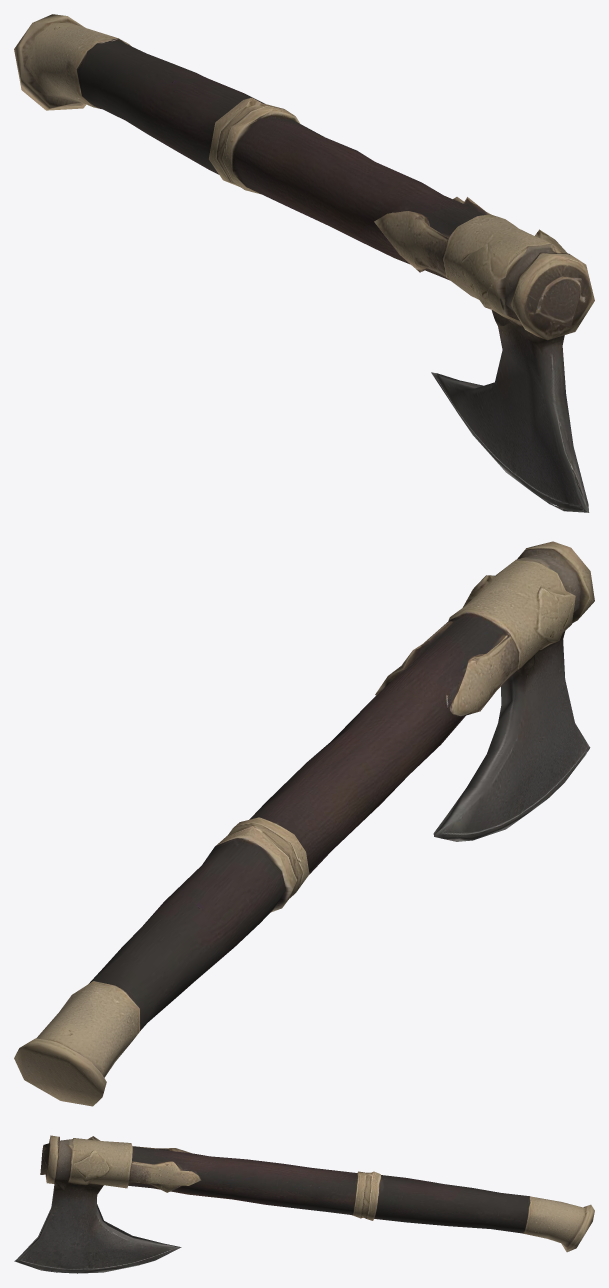
The model's file is cavalry_mix_melee.glb.
3 renders of one model, top to bottom at view 1: azimuth 30°, elevation 25°; view 2: azimuth 150°, elevation 25°; view 3: azimuth 270°, elevation 25°, orthographic. The views are drawn at different scales.
Visible parts, largest first — view 1: tripo_node_97da996b-ba1f-4768-b2bd-584a6ffed13f; view 2: tripo_node_97da996b-ba1f-4768-b2bd-584a6ffed13f; view 3: tripo_node_97da996b-ba1f-4768-b2bd-584a6ffed13f.
Boxes of the visible parts, x1,y1,x2,y2 form: tripo_node_97da996b-ba1f-4768-b2bd-584a6ffed13f: [14, 14, 594, 512]; tripo_node_97da996b-ba1f-4768-b2bd-584a6ffed13f: [14, 541, 594, 1106]; tripo_node_97da996b-ba1f-4768-b2bd-584a6ffed13f: [14, 1135, 594, 1273].
Size of the model in its own units: 0.0569 by 0.1608 by 0.628.
1 material, 1 textured.
